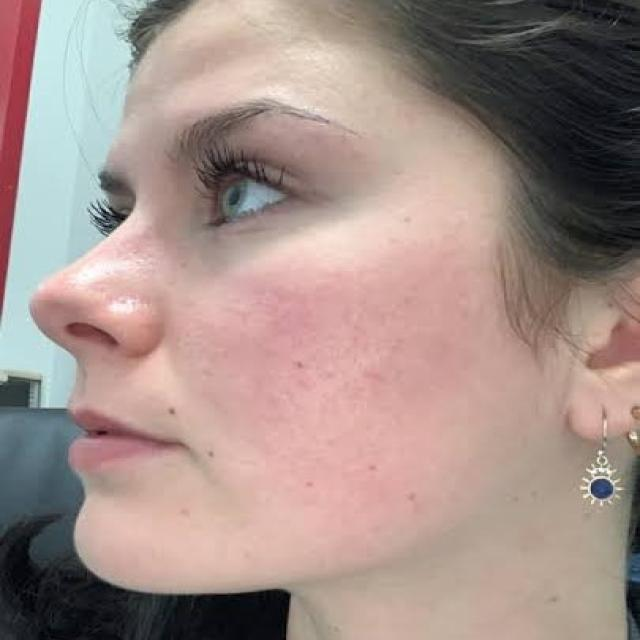redness: (206, 236, 475, 544)
